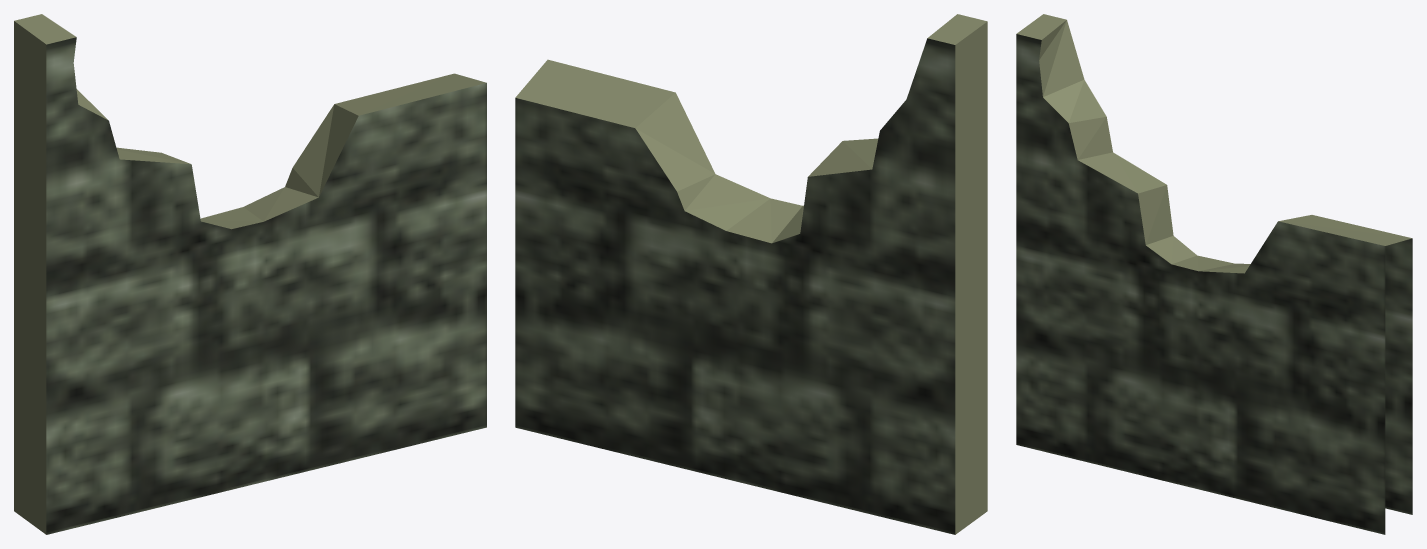
The model's file is ruins_grid_33_1.glb.
The picture shows the model from 3 angles, left to right: view 1: azimuth 30°, elevation 25°; view 2: azimuth 150°, elevation 25°; view 3: azimuth 330°, elevation 25°; orthographic projection. The views are drawn at different scales.
Visible parts, largest first — view 1: ruins_grid_33_1; view 2: ruins_grid_33_1; view 3: ruins_grid_33_1.
Boxes of the visible parts, x1=… form: ruins_grid_33_1: x1=14, y1=14, x2=486, y2=534; ruins_grid_33_1: x1=515, y1=14, x2=987, y2=534; ruins_grid_33_1: x1=1016, y1=14, x2=1412, y2=534.
Size of the model in its own units: 1.88 by 2 by 0.24.
2 materials, 1 textured.
